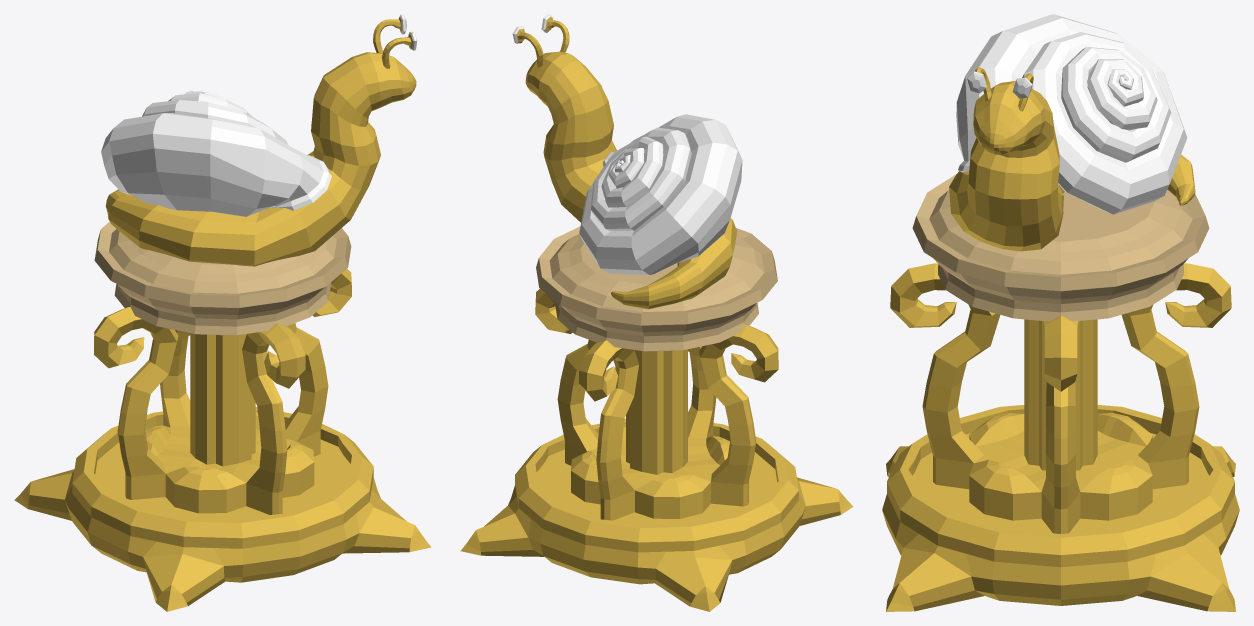
The model's file is wunder.glb.
3 renders of one model, left to right at view 1: azimuth 30°, elevation 25°; view 2: azimuth 150°, elevation 25°; view 3: azimuth 270°, elevation 25°, orthographic. The views are drawn at different scales.
Parts seen in each view (by area): view 1: Wunder; view 2: Wunder; view 3: Wunder.
Part boxes in pixels (<box>): Wunder: <box>14,14,431,611</box>; Wunder: <box>460,14,853,611</box>; Wunder: <box>882,14,1239,611</box>.
Size of the model in its own units: 36.34 by 55.34 by 32.54.
